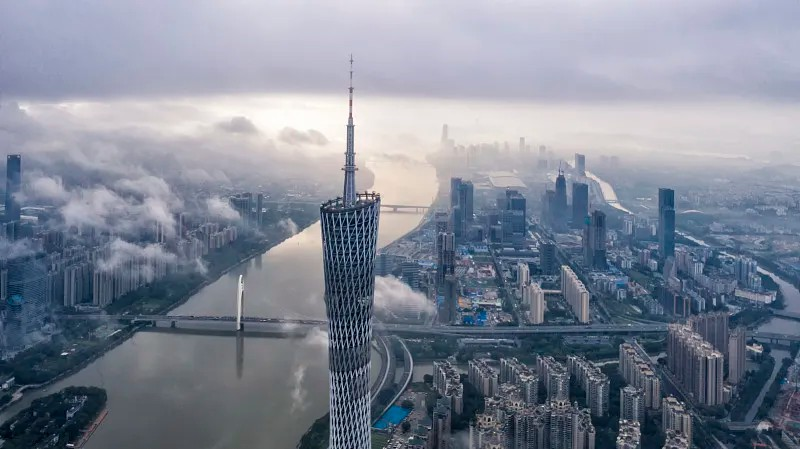Canton: (320, 53, 381, 449)
